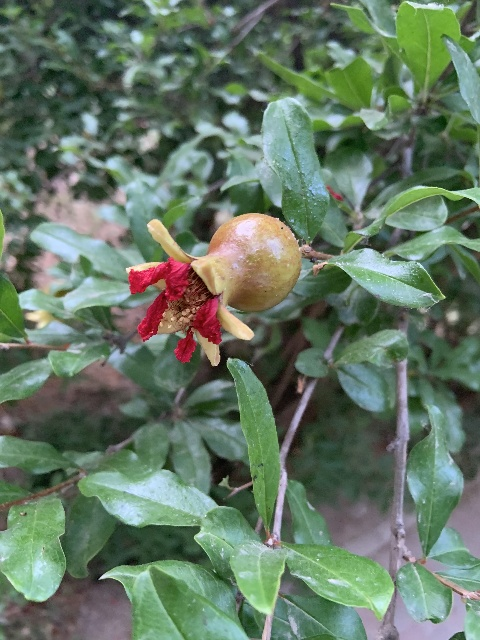early-fruit: (126, 212, 302, 367)
